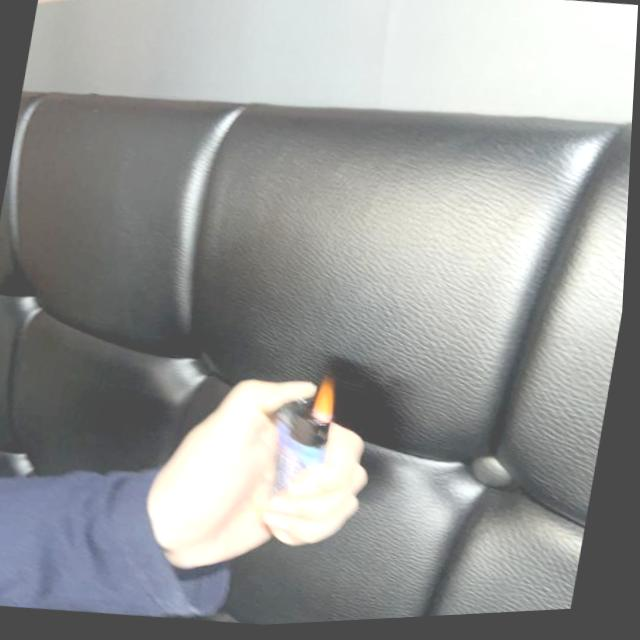helmet: (314, 379, 343, 425)
